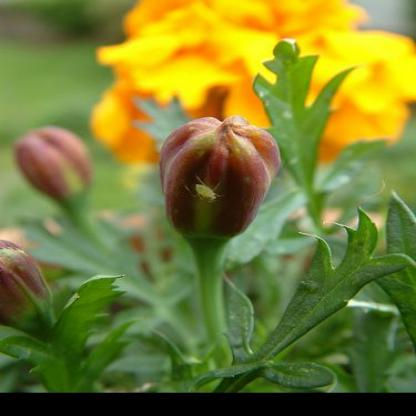aphid: (187, 171, 227, 214)
